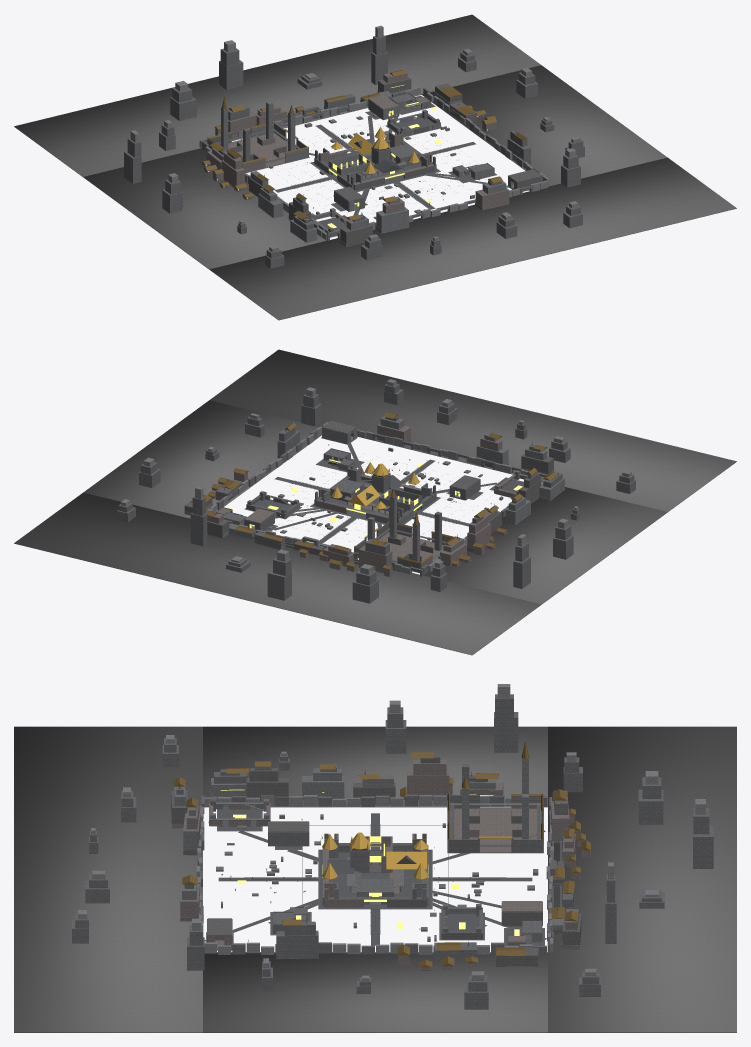
3 views of the same model, one above another, from view 1: azimuth 30°, elevation 25°; view 2: azimuth 150°, elevation 25°; view 3: azimuth 270°, elevation 25° (orthographic). The views are drawn at different scales.
Parts seen in each view (by area): view 1: HB_z04_LOD1_terrain, HB_z04_LOD1_wall_alt, HB_z04_LOD1_wall_warm, HB_z04_LOD1_wall, HB_z04_LOD1_wall_cool, HB_z04_LOD1_wall_weathered, HB_z04_LOD1_road, HB_z04_LOD1_roof, HB_z04_LOD1_LANDMARK_1_wall_cool, HB_z04_LOD1_LANDMARK_1_wall_warm, HB_z04_LOD1_LANDMARK_0_wall_alt, HB_z04_LOD1_LANDMARK_0_wall_cool (+5 smaller); view 2: HB_z04_LOD1_terrain, HB_z04_LOD1_wall_alt, HB_z04_LOD1_wall_warm, HB_z04_LOD1_wall, HB_z04_LOD1_wall_cool, HB_z04_LOD1_wall_weathered, HB_z04_LOD1_road, HB_z04_LOD1_roof, HB_z04_LOD1_LANDMARK_0_wall_alt, HB_z04_LOD1_LANDMARK_1_wall_cool, HB_z04_LOD1_LANDMARK_0_wall_warm, HB_z04_LOD1_LANDMARK_1_wall_warm (+5 smaller); view 3: HB_z04_LOD1_terrain, HB_z04_LOD1_wall_alt, HB_z04_LOD1_road, HB_z04_LOD1_wall, HB_z04_LOD1_wall_weathered, HB_z04_LOD1_wall_warm, HB_z04_LOD1_wall_cool, HB_z04_LOD1_roof, HB_z04_LOD1_LANDMARK_1_wall_warm, HB_z04_LOD1_LANDMARK_0_accent, HB_z04_LOD1_LANDMARK_0_wall_alt, HB_z04_LOD1_LANDMARK_0_wall_warm (+7 smaller).
Boxes of the visible parts, x1=… form: HB_z04_LOD1_terrain: x1=14, y1=14, x2=736, y2=320; HB_z04_LOD1_wall_alt: x1=124, y1=35, x2=584, y2=268; HB_z04_LOD1_wall_warm: x1=202, y1=70, x2=517, y2=246; HB_z04_LOD1_wall: x1=130, y1=25, x2=580, y2=252; HB_z04_LOD1_wall_cool: x1=212, y1=89, x2=513, y2=242; HB_z04_LOD1_wall_weathered: x1=218, y1=76, x2=542, y2=246; HB_z04_LOD1_road: x1=240, y1=96, x2=529, y2=236; HB_z04_LOD1_roof: x1=201, y1=70, x2=527, y2=220; HB_z04_LOD1_LANDMARK_1_wall_cool: x1=221, y1=101, x2=308, y2=162; HB_z04_LOD1_LANDMARK_1_wall_warm: x1=207, y1=132, x2=296, y2=172; HB_z04_LOD1_LANDMARK_0_wall_alt: x1=318, y1=139, x2=429, y2=188; HB_z04_LOD1_LANDMARK_0_wall_cool: x1=314, y1=130, x2=407, y2=182; HB_z04_LOD1_terrain: x1=14, y1=349, x2=736, y2=655; HB_z04_LOD1_wall_alt: x1=117, y1=383, x2=635, y2=603; HB_z04_LOD1_wall_warm: x1=207, y1=423, x2=554, y2=576; HB_z04_LOD1_wall: x1=121, y1=379, x2=631, y2=574; HB_z04_LOD1_wall_cool: x1=184, y1=416, x2=564, y2=566; HB_z04_LOD1_wall_weathered: x1=184, y1=420, x2=553, y2=555; HB_z04_LOD1_road: x1=246, y1=439, x2=523, y2=573; HB_z04_LOD1_roof: x1=190, y1=412, x2=557, y2=569; HB_z04_LOD1_LANDMARK_0_wall_alt: x1=317, y1=468, x2=436, y2=518; HB_z04_LOD1_LANDMARK_1_wall_cool: x1=354, y1=495, x2=443, y2=561; HB_z04_LOD1_LANDMARK_0_wall_warm: x1=316, y1=465, x2=432, y2=523; HB_z04_LOD1_LANDMARK_1_wall_warm: x1=378, y1=532, x2=451, y2=568; HB_z04_LOD1_terrain: x1=14, y1=726, x2=736, y2=1032; HB_z04_LOD1_wall_alt: x1=72, y1=694, x2=713, y2=1009; HB_z04_LOD1_road: x1=204, y1=806, x2=546, y2=947; HB_z04_LOD1_wall: x1=78, y1=684, x2=705, y2=980; HB_z04_LOD1_wall_weathered: x1=171, y1=755, x2=581, y2=966; HB_z04_LOD1_wall_warm: x1=172, y1=760, x2=589, y2=970; HB_z04_LOD1_wall_cool: x1=174, y1=763, x2=579, y2=965; HB_z04_LOD1_roof: x1=173, y1=752, x2=590, y2=967; HB_z04_LOD1_LANDMARK_1_wall_warm: x1=448, y1=796, x2=541, y2=852; HB_z04_LOD1_LANDMARK_0_accent: x1=322, y1=832, x2=428, y2=879; HB_z04_LOD1_LANDMARK_0_wall_alt: x1=336, y1=843, x2=427, y2=904; HB_z04_LOD1_LANDMARK_0_wall_warm: x1=323, y1=833, x2=428, y2=907.
Bounding box in the file's own units: 650 × 75.65 × 650.
Materials: 14 (12 with a texture image).
